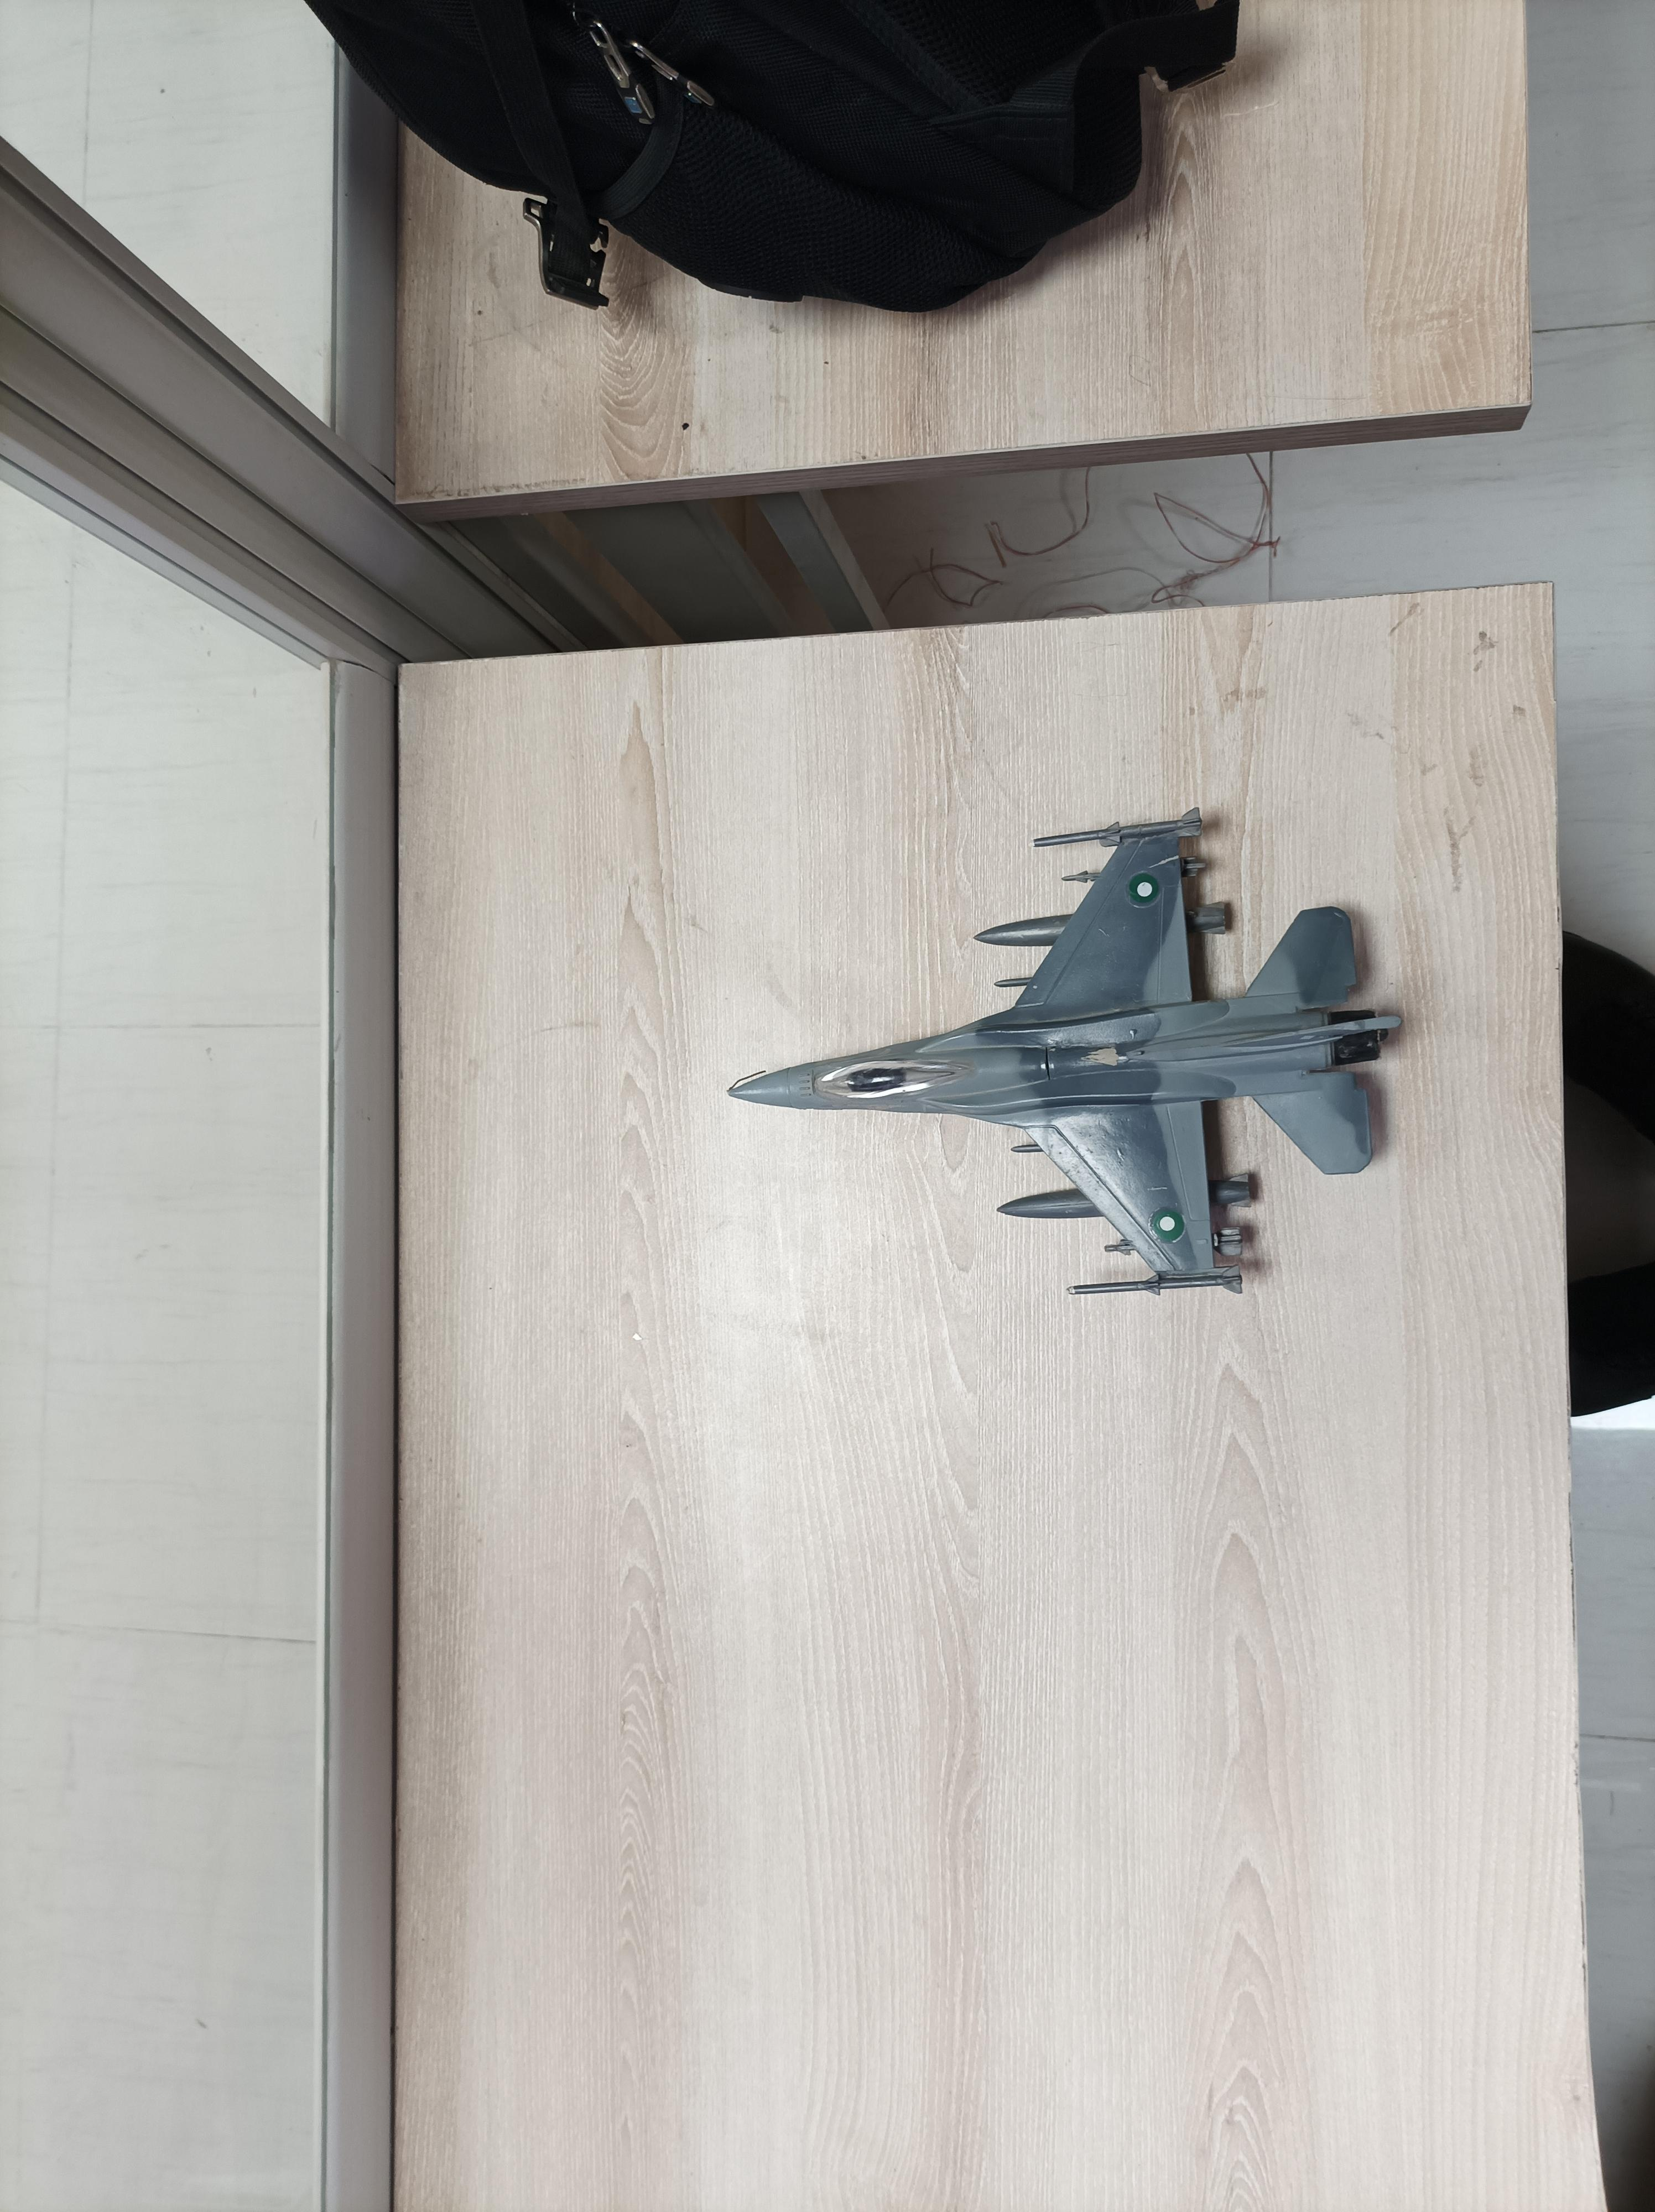Airplane: (708, 801, 1429, 1301)
